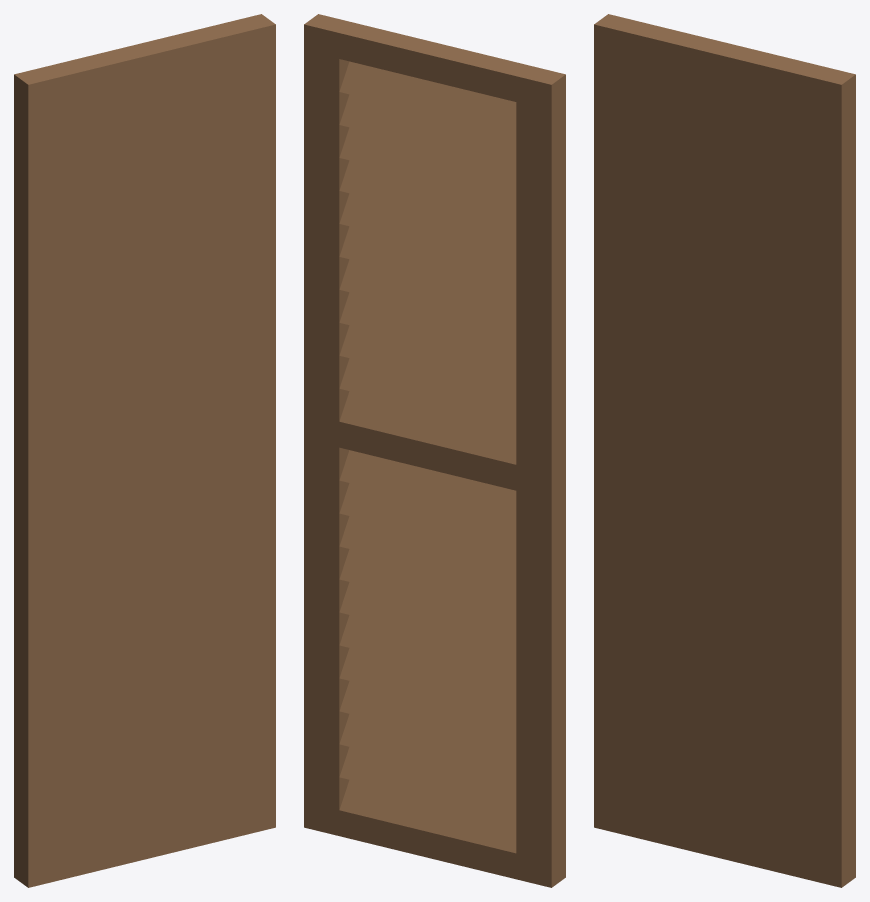
File: Exterior_Shutter_Louvered.obj
3 views of the same model, side by side, from view 1: azimuth 30°, elevation 25°; view 2: azimuth 150°, elevation 25°; view 3: azimuth 330°, elevation 25° (orthographic).
Parts seen in each view (by area): view 1: object1; view 2: object1; view 3: object1.
Boxes of the visible parts, x1,y1,x2,y2 form: object1: (14,14,275,887); object1: (304,14,565,887); object1: (594,14,855,887).
Bounding box in the file's own units: 0.5 × 1.55 × 0.05.
